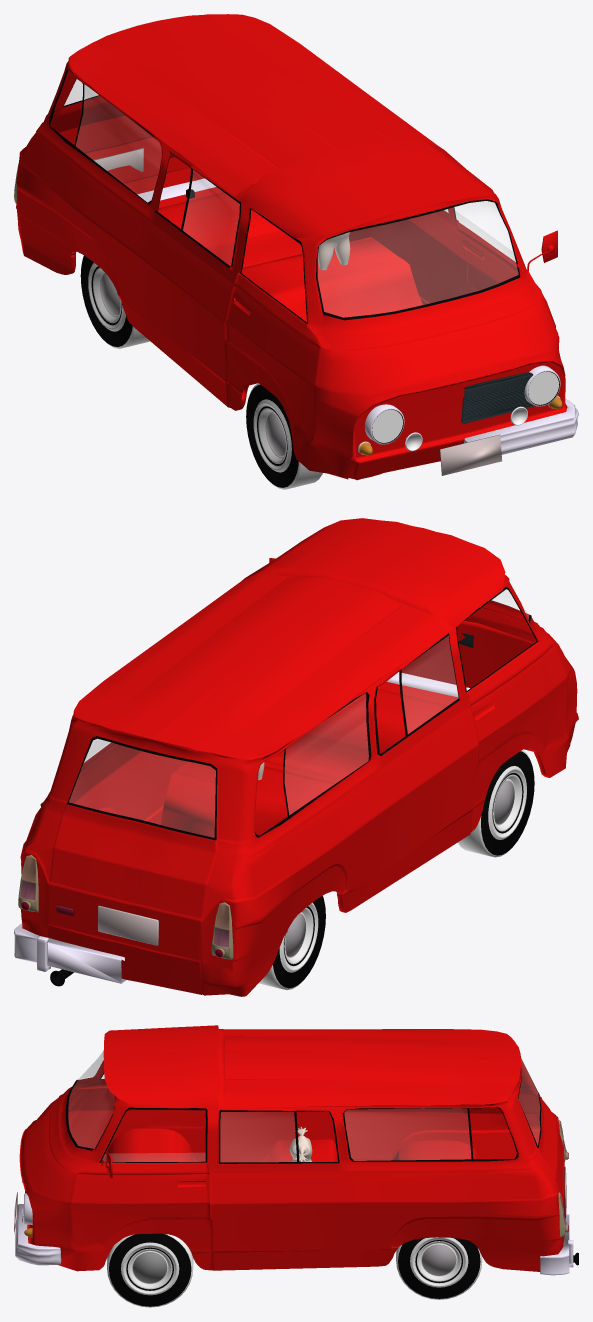
The model's file is skoda120.glb.
3 views of the same model, one above another, from view 1: azimuth 30°, elevation 25°; view 2: azimuth 150°, elevation 25°; view 3: azimuth 270°, elevation 25° (orthographic). The views are drawn at different scales.
Visible parts, largest first — view 1: Karoserie.001, Celni sklo, Ostatni_skla, Predni Leve, Zadni Leve, Vzduchovy filtr, Predni naraznik, SPZ, Predni Leve Svetlo, Predni Prave Svetlo, Body_DIvka2, SPZ.001 (+1 smaller); view 2: Karoserie.001, Ostatni_skla, Predni Leve, Zadni naraznik, Zadni Leve, Zadni Leve svetlo, SPZ.001, Predni naraznik; view 3: Karoserie.001, Ostatni_skla, Predni Prave, Zadni Prave, Celni sklo, Predni naraznik, Zadni naraznik, Body_DIvka2, Zadni Leve svetlo.
Part boxes in pixels (x1,y1,x2,y2): Karoserie.001: (16,14,567,480); Celni sklo: (318,201,518,317); Ostatni_skla: (64,79,515,265); Predni Leve: (246,383,322,489); Zadni Leve: (80,255,149,348); Vzduchovy filtr: (461,372,534,423); Predni naraznik: (464,398,578,454); SPZ: (440,434,502,475); Predni Leve Svetlo: (364,404,404,444); Predni Prave Svetlo: (524,365,560,406); Body_DIvka2: (317,232,350,270); SPZ.001: (93,147,143,171); Karoserie.001: (20,518,578,996); Ostatni_skla: (69,636,458,837); Predni Leve: (458,750,534,857); Zadni naraznik: (14,923,126,983); Zadni Leve: (259,896,325,990); Zadni Leve svetlo: (18,855,233,959); SPZ.001: (98,905,158,945); Predni naraznik: (386,672,470,697); Karoserie.001: (19,1025,565,1271); Ostatni_skla: (103,1057,539,1161); Predni Prave: (107,1233,193,1307); Zadni Prave: (396,1237,482,1299); Celni sklo: (68,1051,114,1148); Predni naraznik: (15,1204,61,1265); Zadni naraznik: (540,1214,573,1275); Body_DIvka2: (289,1127,312,1161); Zadni Leve svetlo: (558,1120,568,1237).
Bounding box in the file's own units: 1.3 × 1.27 × 3.
